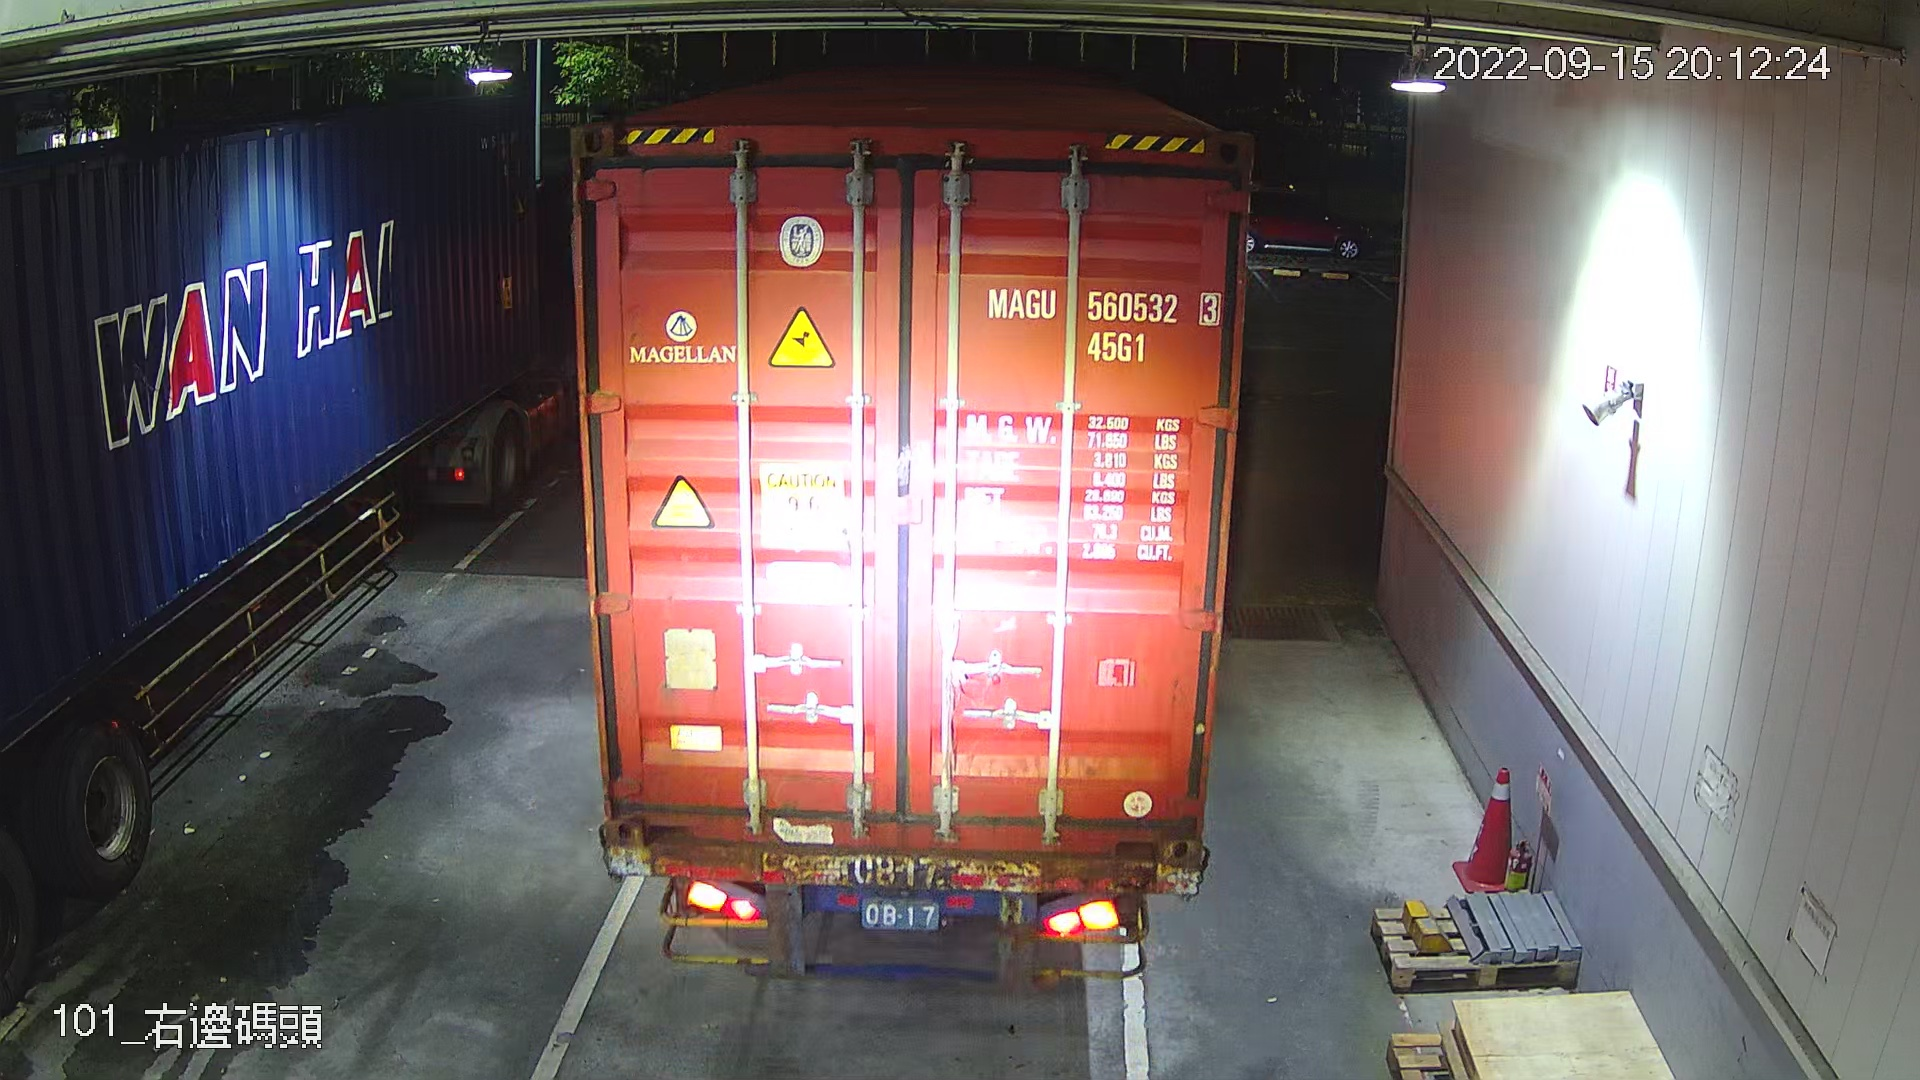container: (973, 276, 1232, 373)
